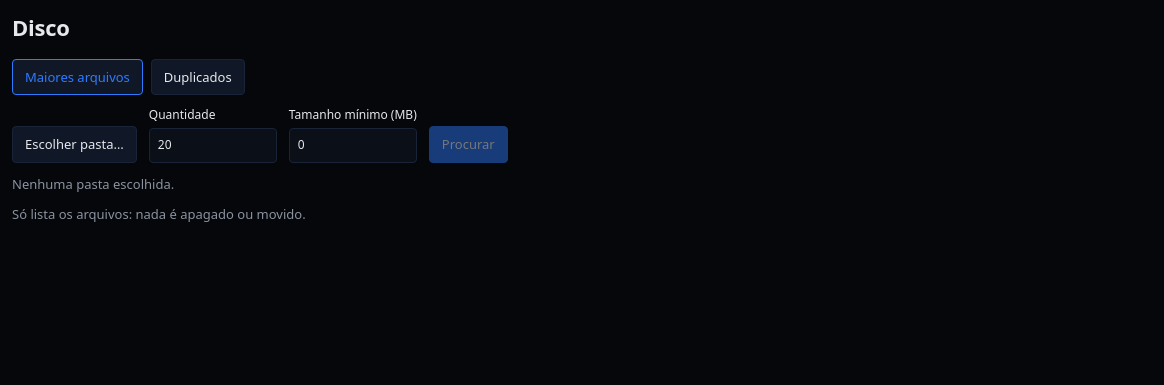
Test: Disco › resultado interrompido é parcial; vazio e não verificados
This screenshot has width=1164, height=385.
Step 1. Click the button "Escolher pasta…" → (74, 144), box left=12, top=126, right=137, bottom=163
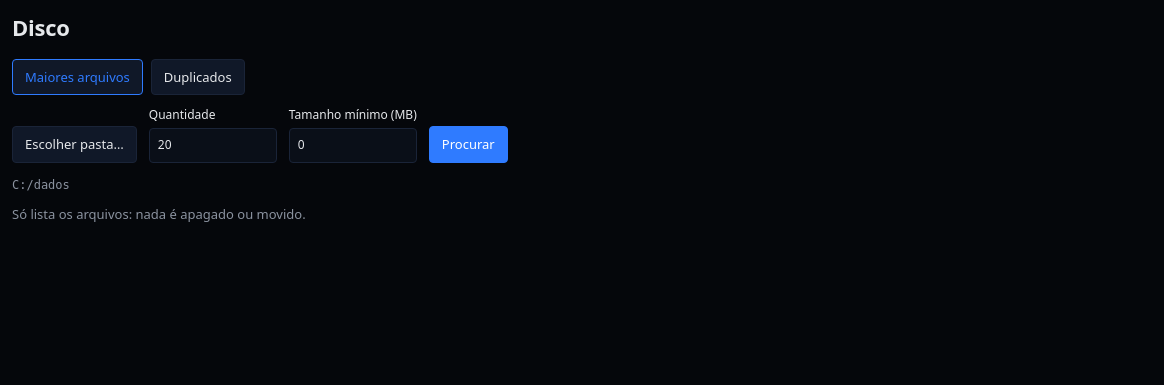
Expected: the text "C:/dados" is shown, left=12, top=178, right=70, bottom=192
Step 2. Click the button "Procurar" → (468, 144), box left=429, top=126, right=508, bottom=163
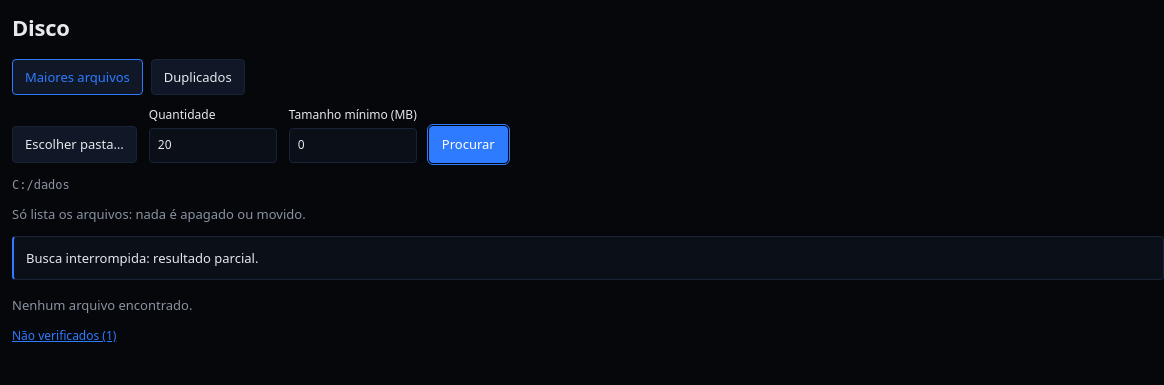
Expected: the text "Busca interrompida: resultado parcial." is shown, left=12, top=236, right=1163, bottom=280
Expected: the text "Nenhum arquivo encontrado." is shown, left=12, top=296, right=192, bottom=314
Step 3. Click the button "Não verificados (1)" → (64, 336), box left=12, top=328, right=116, bottom=345
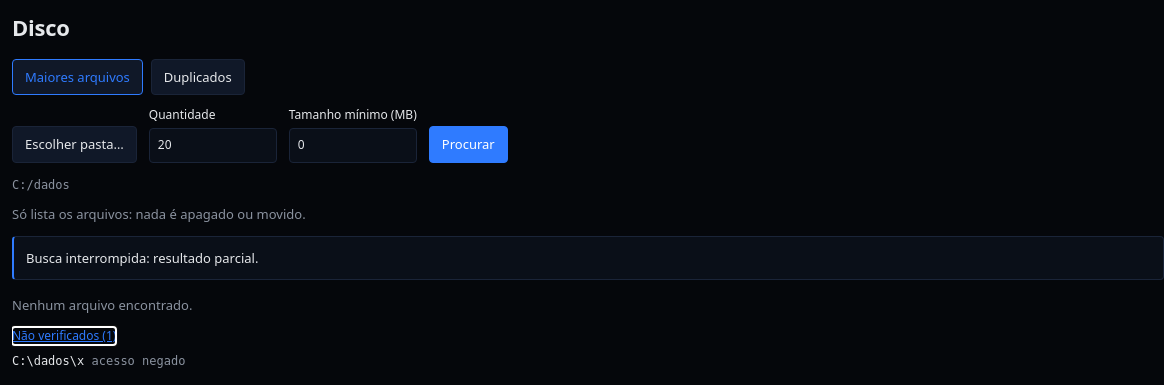
Expected: the text "acesso negado" is shown, left=92, top=354, right=185, bottom=368
